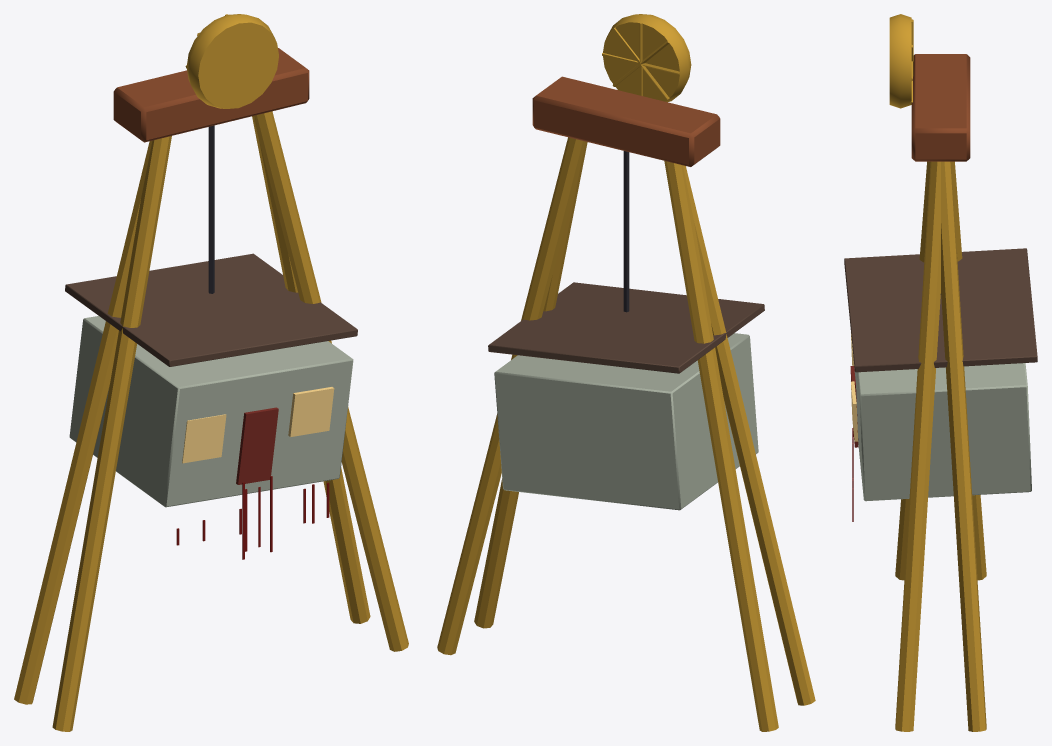
File: repo_winch.glb
3 renders of one model, left to right at view 1: azimuth 30°, elevation 25°; view 2: azimuth 150°, elevation 25°; view 3: azimuth 270°, elevation 25°, orthographic. The views are drawn at different scales.
Visible parts, largest first — view 1: repo_winch; view 2: repo_winch; view 3: repo_winch.
Boxes of the visible parts, x1=… form: repo_winch: x1=14, y1=14, x2=408, y2=731; repo_winch: x1=437, y1=14, x2=815, y2=731; repo_winch: x1=844, y1=14, x2=1037, y2=731.
Size of the model in its own units: 10.49 by 19.16 by 5.28.
